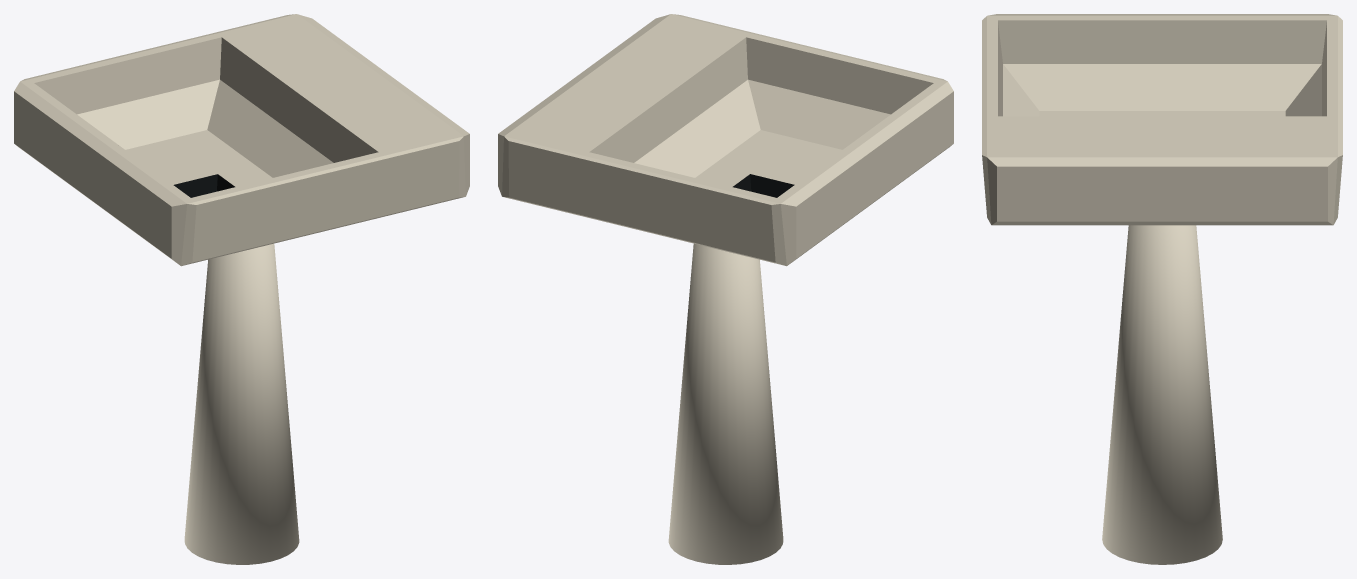
The model's file is BathroomSinkV1.fbx.
3 renders of one model, left to right at view 1: azimuth 30°, elevation 25°; view 2: azimuth 150°, elevation 25°; view 3: azimuth 270°, elevation 25°, orthographic. The views are drawn at different scales.
Visible parts, largest first — view 1: Cylinder; view 2: Cylinder; view 3: Cylinder.
Part boxes in pixels (left/top/right/bottom): Cylinder: left=14, top=14, right=469, bottom=564; Cylinder: left=498, top=14, right=953, bottom=564; Cylinder: left=982, top=14, right=1342, bottom=564.
Size of the model in its own units: 598 by 598 by 828.
